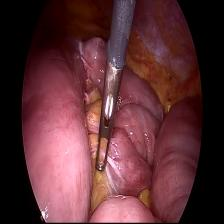Grasper: (95, 64, 123, 173)
